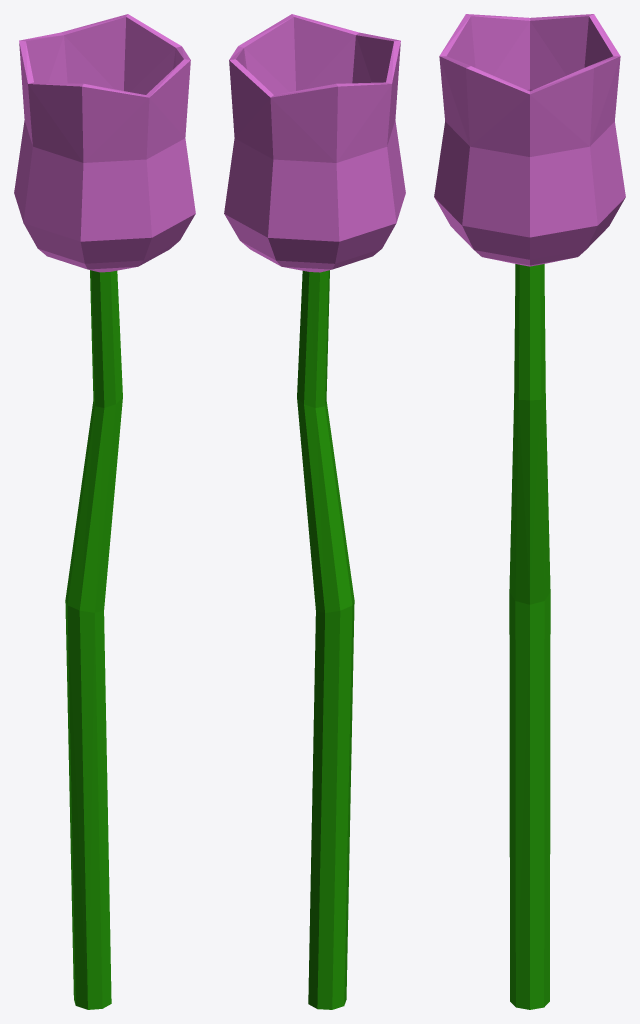
Rendered from Vegetation_Verdant_Plant_Flower_02.FBX.
The picture shows the model from 3 angles, left to right: view 1: azimuth 30°, elevation 25°; view 2: azimuth 150°, elevation 25°; view 3: azimuth 270°, elevation 25°; orthographic projection.
Parts seen in each view (by area): view 1: Vegetation_Verdant_Plant_Flower_02; view 2: Vegetation_Verdant_Plant_Flower_02; view 3: Vegetation_Verdant_Plant_Flower_02.
Boxes of the visible parts, x1=… form: Vegetation_Verdant_Plant_Flower_02: x1=14, y1=14, x2=195, y2=1009; Vegetation_Verdant_Plant_Flower_02: x1=224, y1=14, x2=405, y2=1009; Vegetation_Verdant_Plant_Flower_02: x1=434, y1=14, x2=625, y2=1009.
Bounding box in the file's own units: 166 × 923 × 166.
